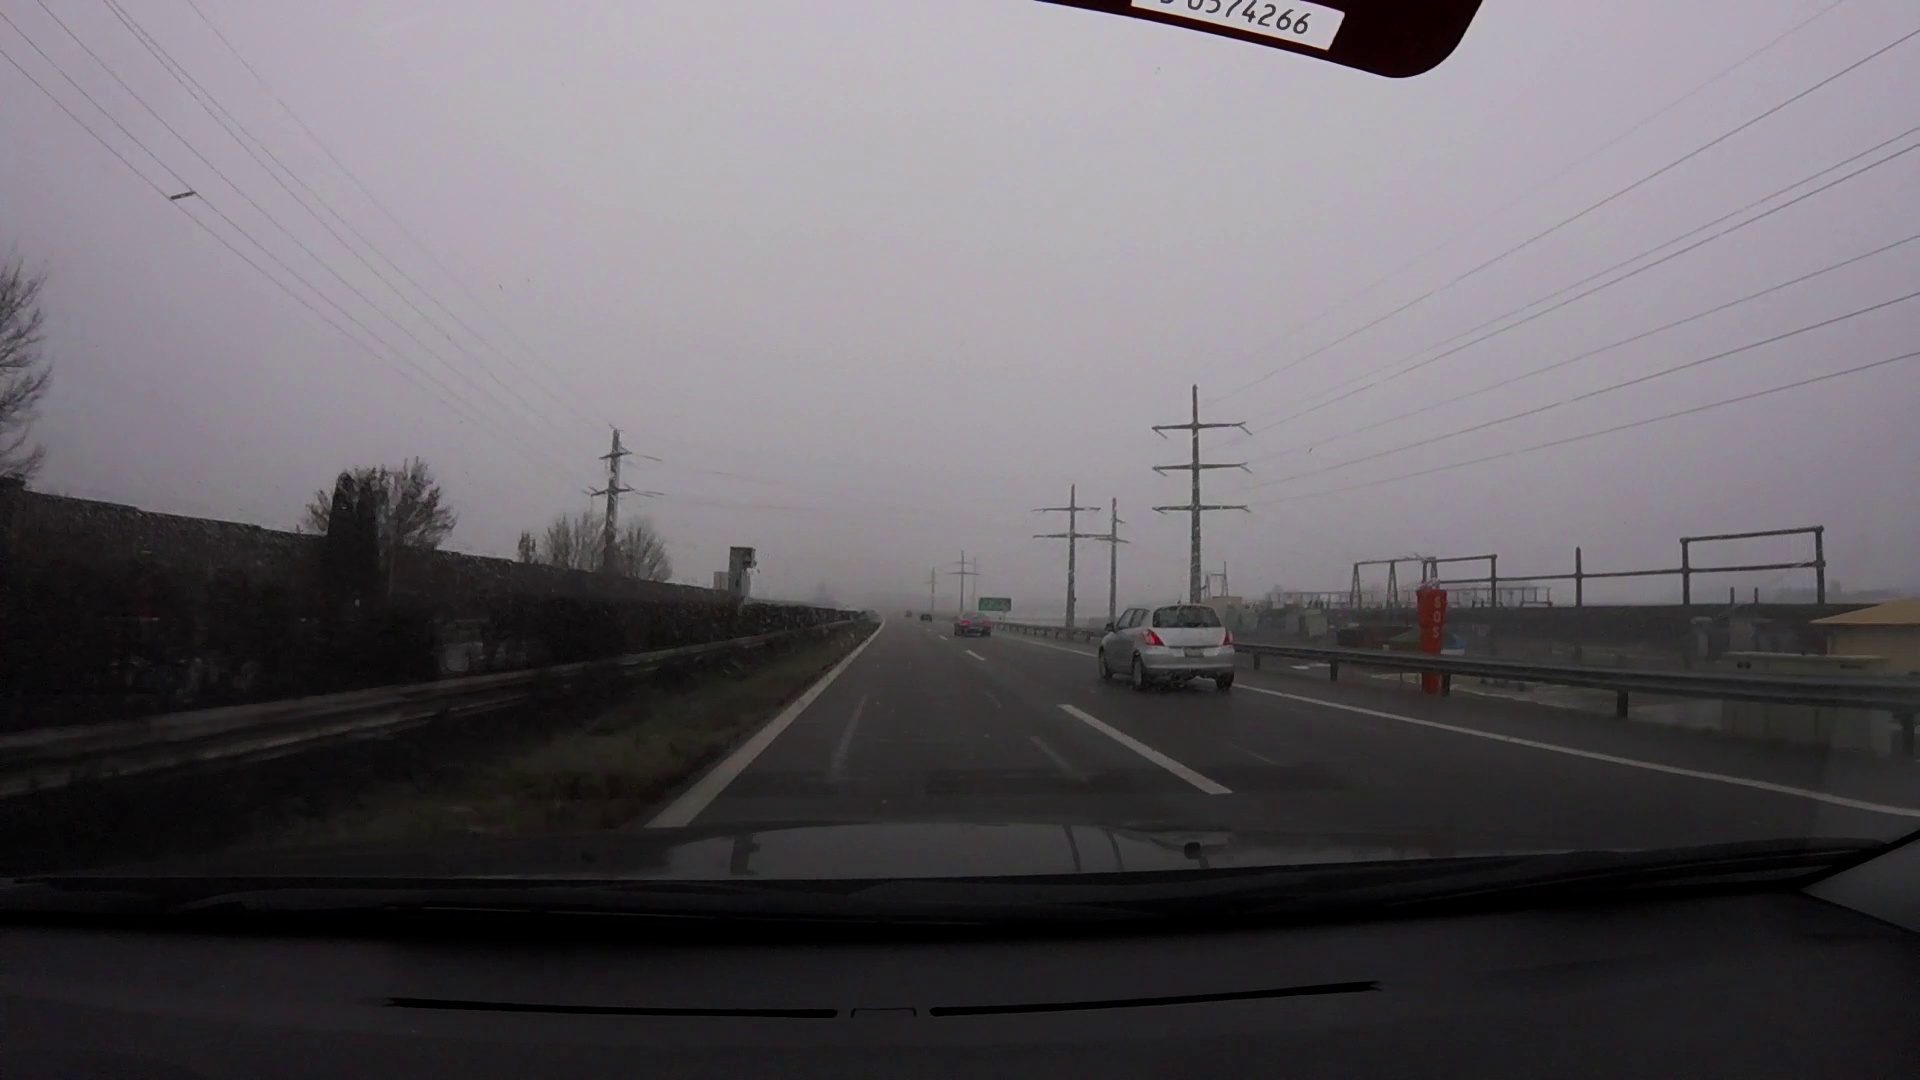radar: (727, 545, 761, 613)
